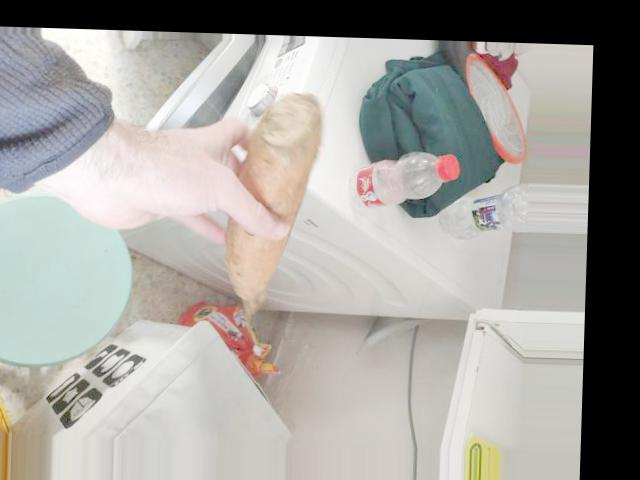sweet_potato: (238, 93, 310, 323)
